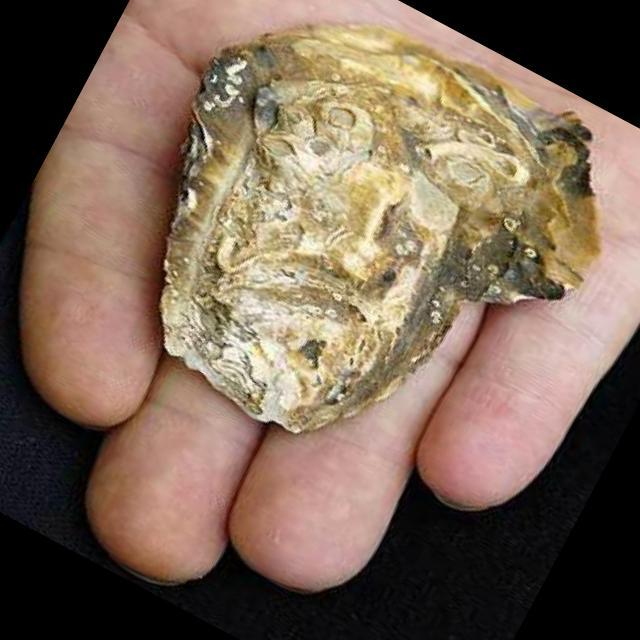Oyster- Indeterminate: (55, 0, 640, 533)
